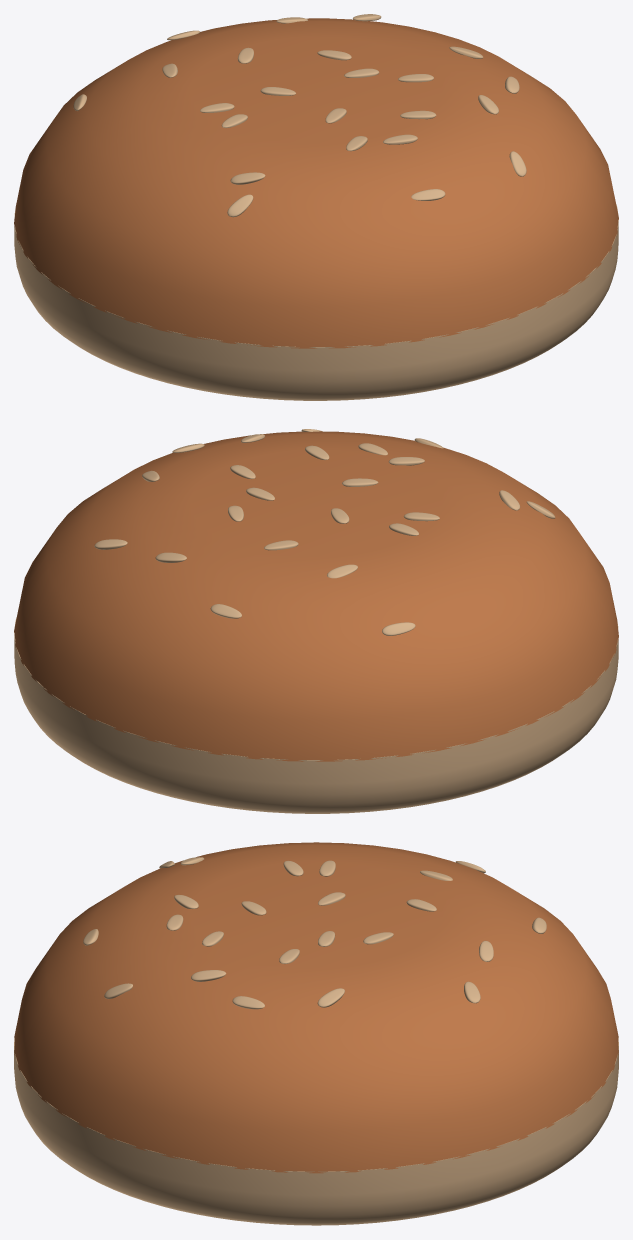
Rendered from broodje.glb.
3 views of the same model, one above another, from view 1: azimuth 30°, elevation 25°; view 2: azimuth 150°, elevation 25°; view 3: azimuth 270°, elevation 25° (orthographic).
Visible parts, largest first — view 1: Cylinder.1; view 2: Cylinder.1; view 3: Cylinder.1.
Boxes of the visible parts, bbox=[...] form: Cylinder.1: bbox=[14, 14, 618, 400]; Cylinder.1: bbox=[14, 429, 618, 813]; Cylinder.1: bbox=[14, 842, 618, 1225].
Size of the model in its own units: 1.1 by 0.3892 by 1.1.
